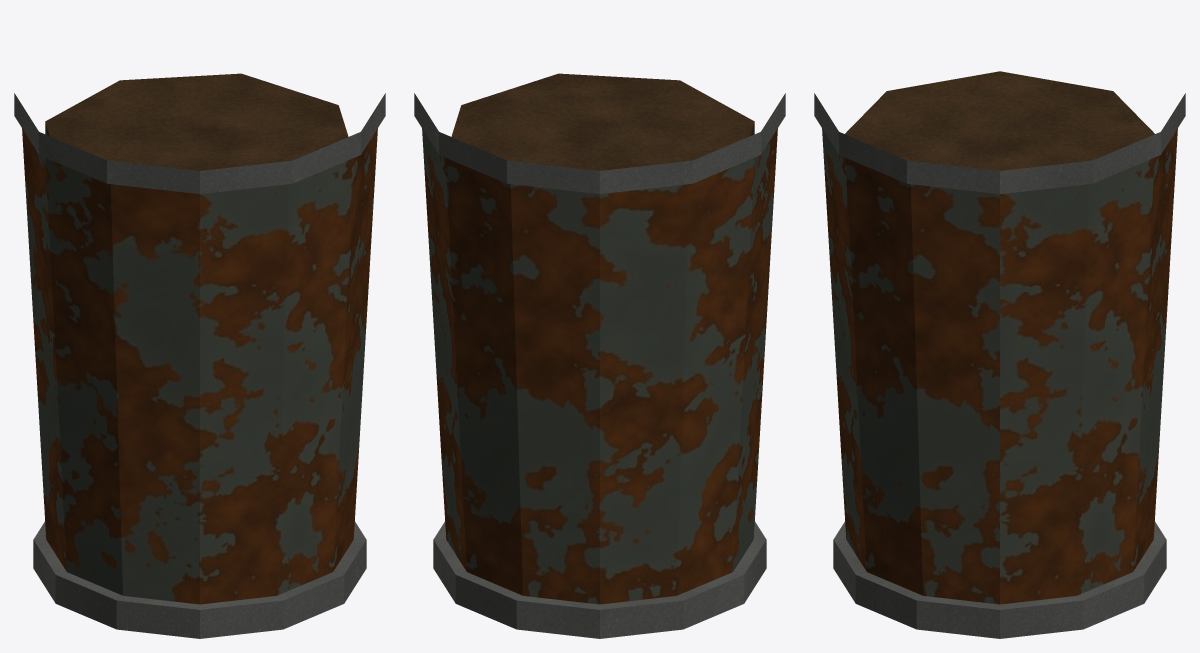
The model's file is trash_bin.glb.
3 renders of one model, left to right at view 1: azimuth 30°, elevation 25°; view 2: azimuth 150°, elevation 25°; view 3: azimuth 270°, elevation 25°, orthographic.
Visible parts, largest first — view 1: trash_bin; view 2: trash_bin; view 3: trash_bin.
Part boxes in pixels (bbox=[...]): trash_bin: bbox=[14, 73, 385, 638]; trash_bin: bbox=[414, 73, 785, 638]; trash_bin: bbox=[814, 71, 1185, 638].
Size of the model in its own units: 0.58 by 0.82 by 0.58.
3 materials, 3 textured.
